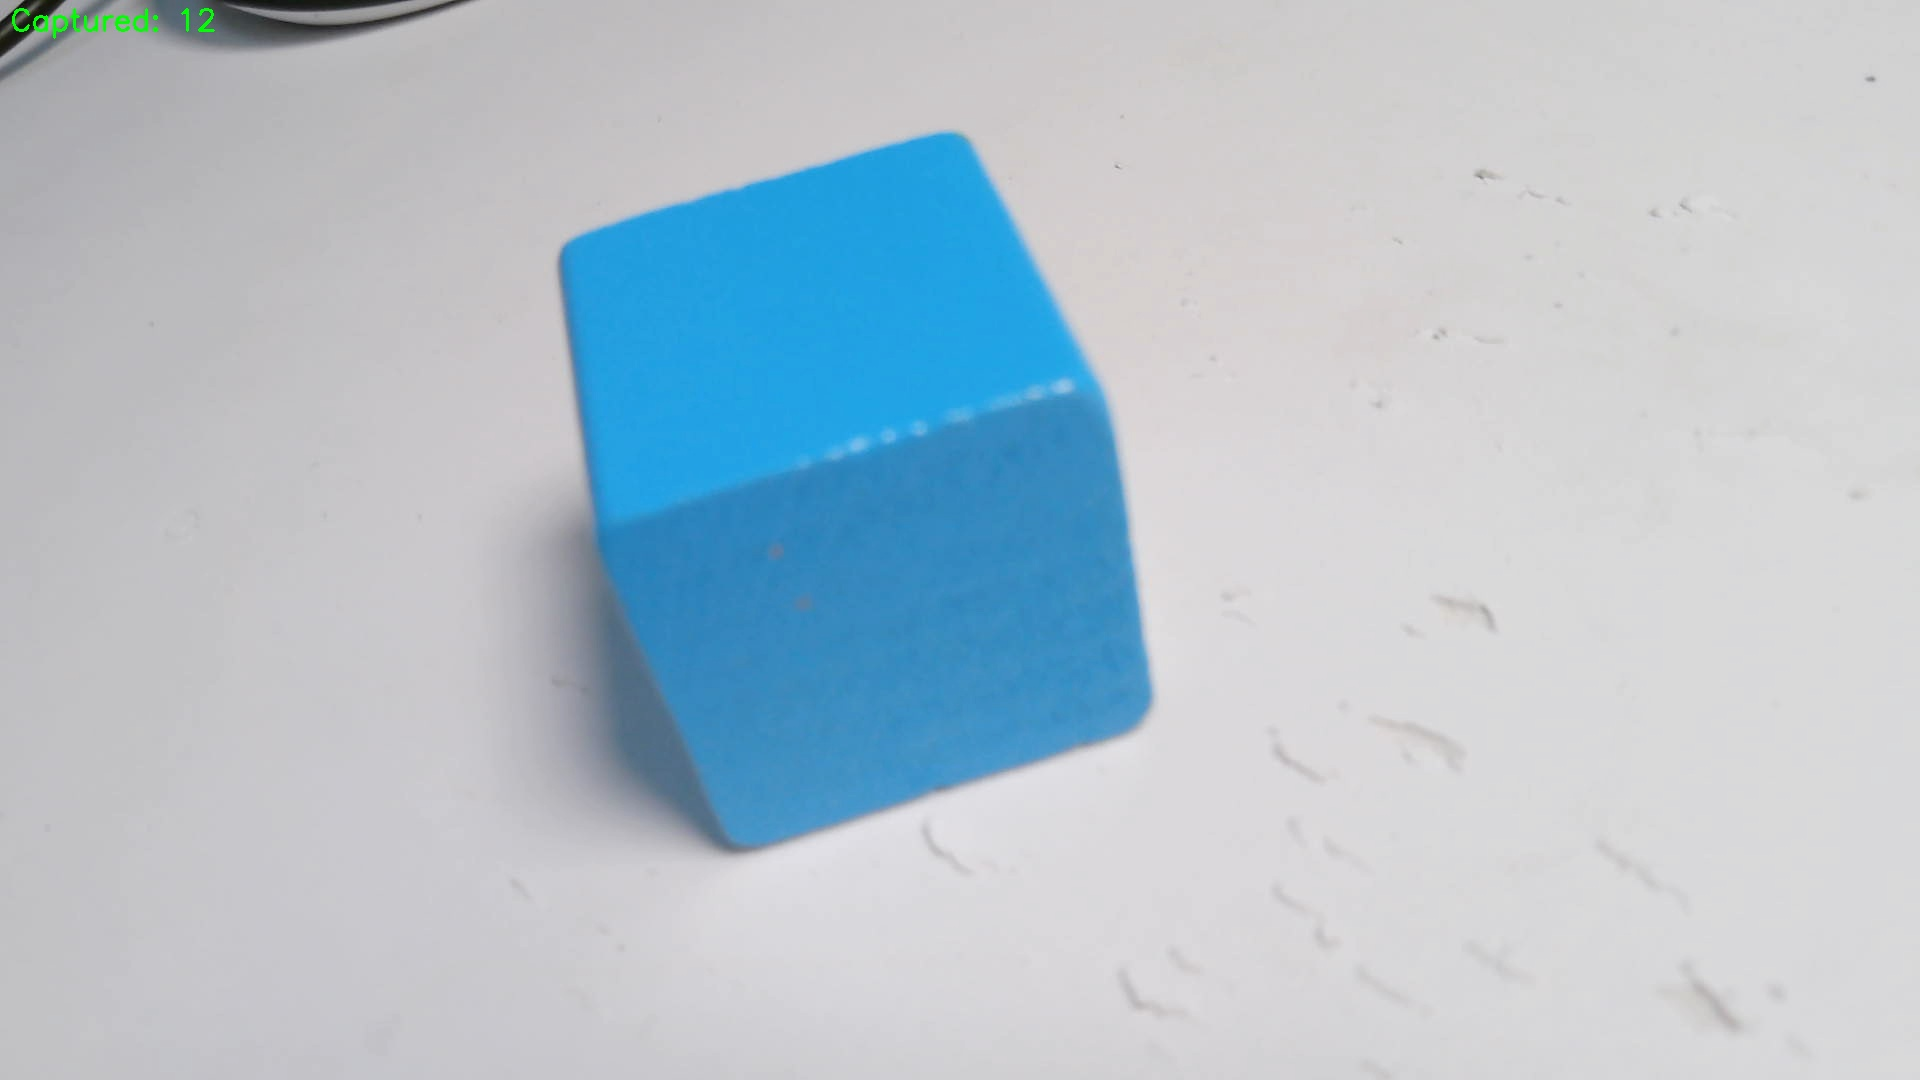blue: (560, 133, 1153, 848)
